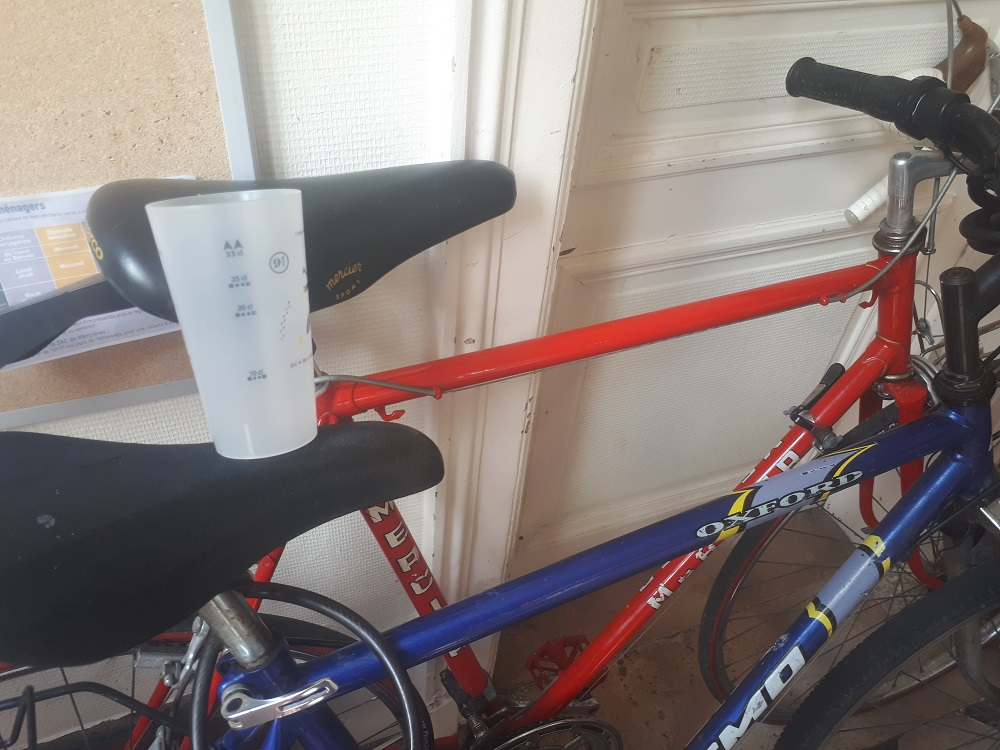ecocup: (145, 186, 321, 459)
